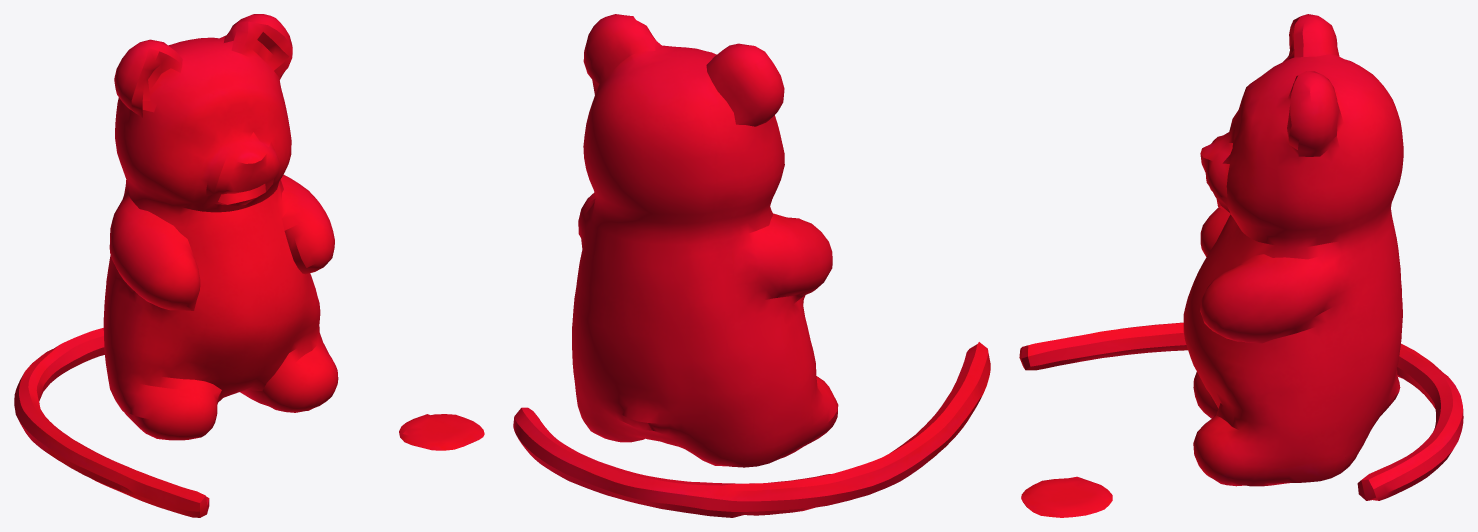
File: train.glb
3 renders of one model, left to right at view 1: azimuth 30°, elevation 25°; view 2: azimuth 150°, elevation 25°; view 3: azimuth 270°, elevation 25°, orthographic. The views are drawn at different scales.
Visible parts, largest first — view 1: output; view 2: output; view 3: output.
Part boxes in pixels (x1,y1,x2,y2): output: (14,14,484,517); output: (513,14,990,517); output: (1019,14,1463,517).
Size of the model in its own units: 1.89 by 1.88 by 1.91.
1 material, 1 textured.
